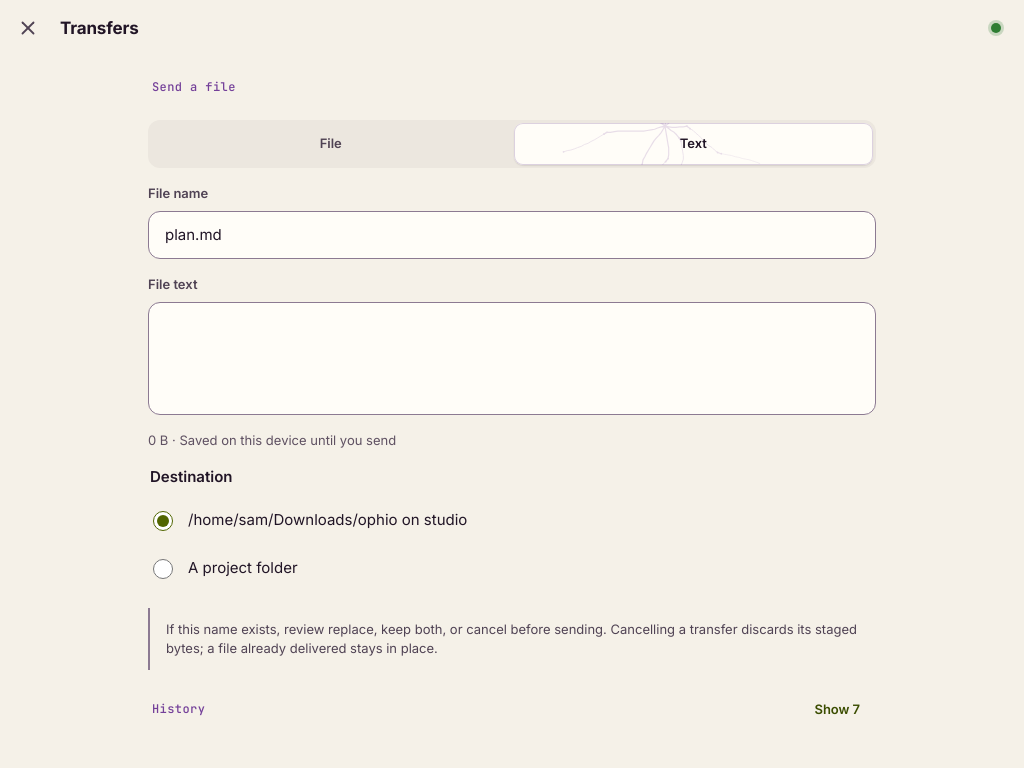
Test: searches a long history by name or folder
The width and height of the screenshot is (1024, 768).
Expected: the search field labelled "Search transfers" is not shown
Click the button "Show 7".
click(837, 710)  # box [803,686,872,734]
(page scrolled)
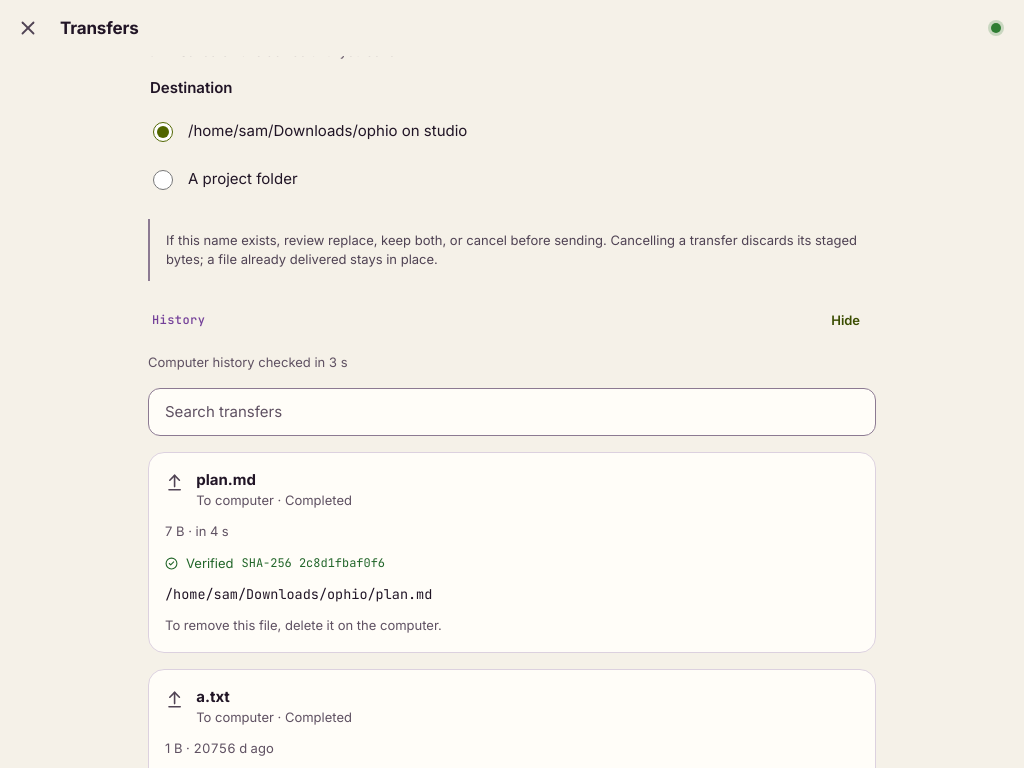
Type "budg" into the search field labelled "Search transfers".
click(512, 412); type("budg")  # box [148,388,876,436]
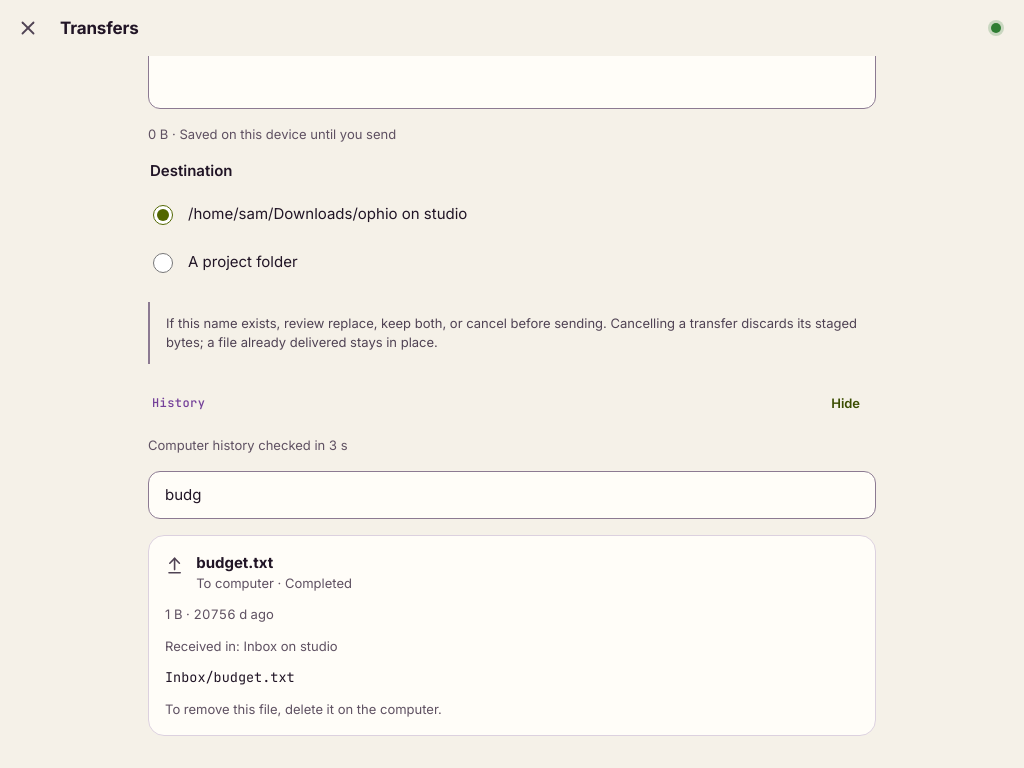
Now the heading "budget.txt" is shown, box [196,553,273,572]
Now the heading "a.txt" is gone
Replace the text in the search field named "Search transfers" with "nothing" at (512, 495), box [148,471,876,519]
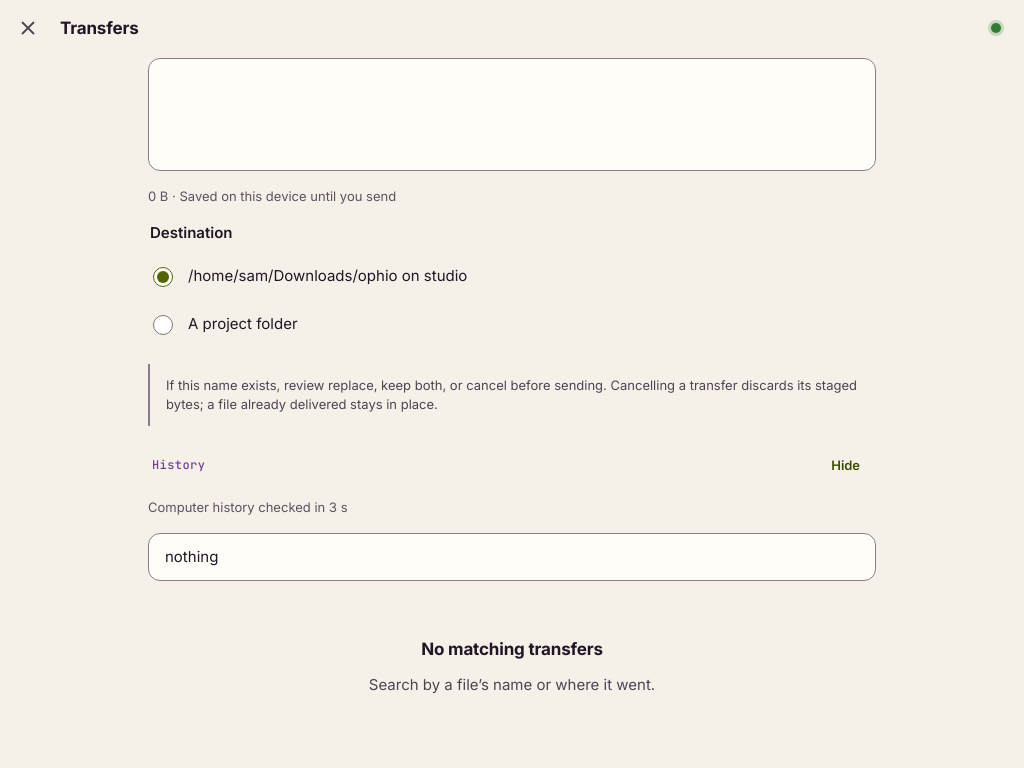
Now the text "No matching transfers" is shown, box [421,637,603,662]
